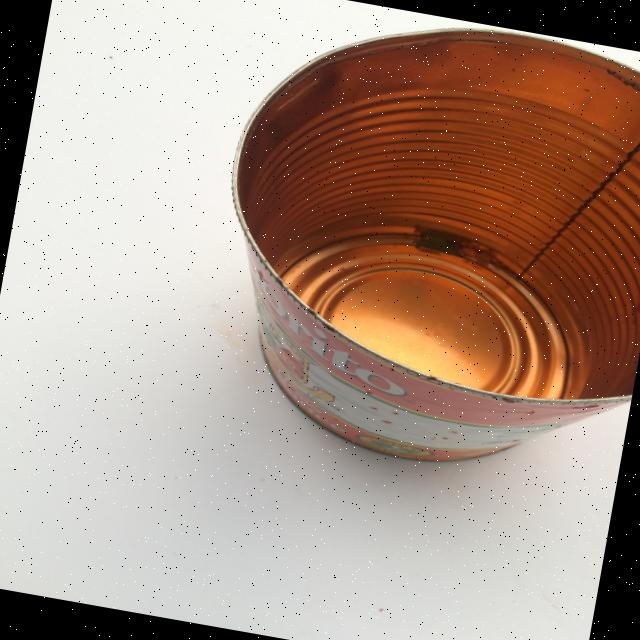metal: (186, 0, 640, 496)
